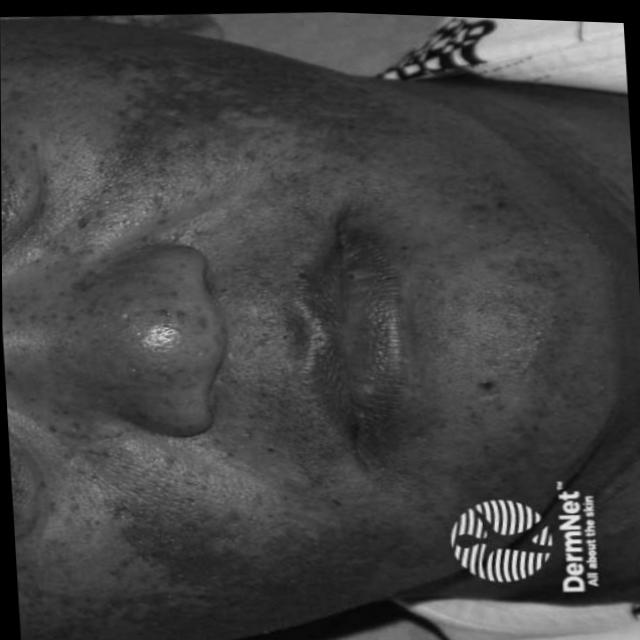Melasma: (106, 470, 396, 640), (93, 21, 298, 162)
